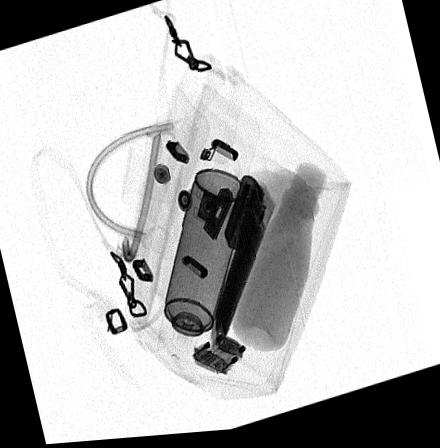Lighter: (223, 177, 265, 258)
Powerbank: (213, 184, 275, 347)
Sprayer: (157, 170, 246, 371)
